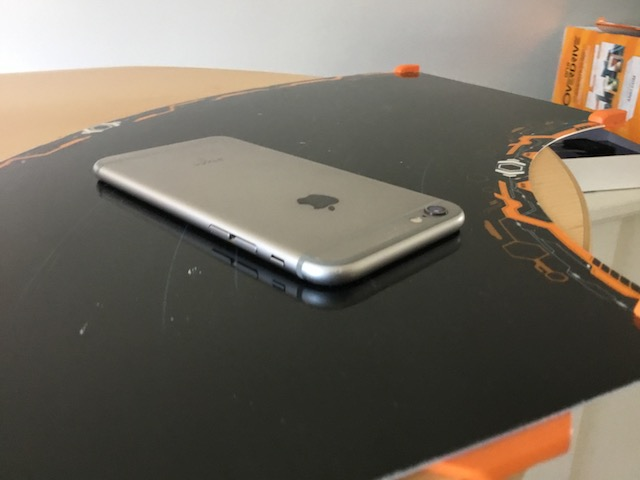phone: (90, 131, 467, 294)
